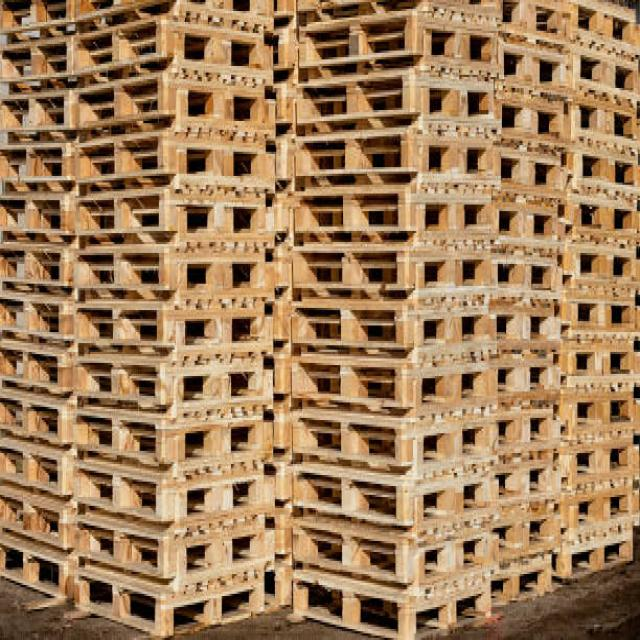Wooden-Pallets: (173, 476, 262, 534), (412, 363, 489, 424), (176, 308, 268, 358), (176, 82, 267, 130), (176, 195, 265, 242), (422, 130, 496, 182), (415, 250, 494, 298), (573, 388, 632, 437)
